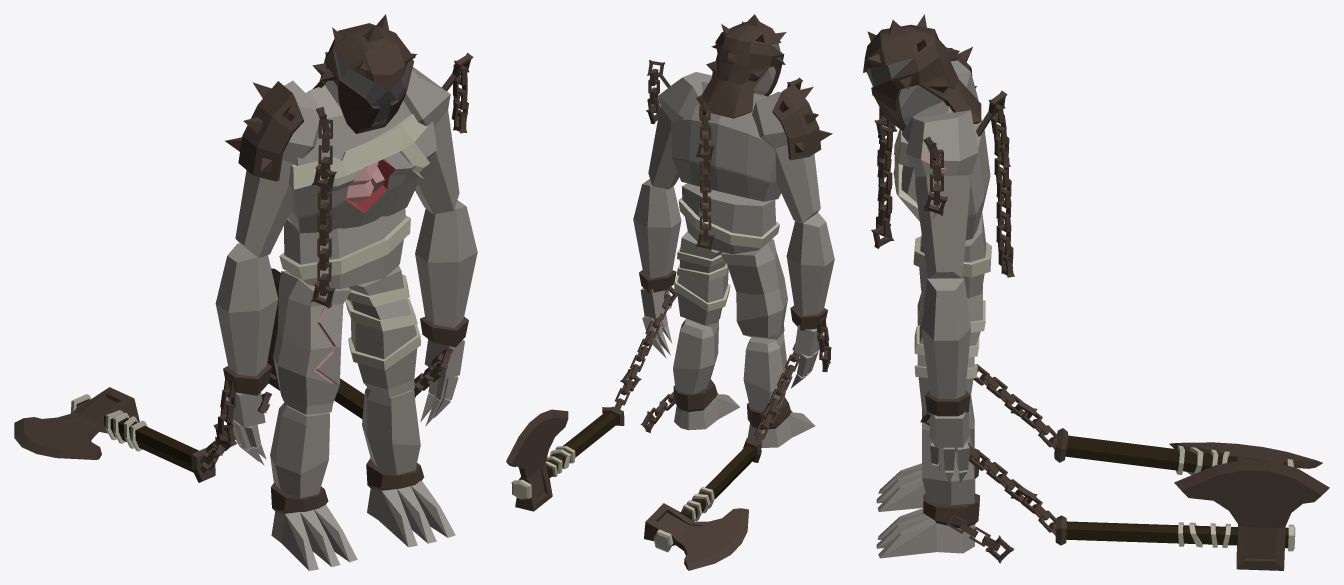
The model's file is Fanatic.fbx.
3 renders of one model, left to right at view 1: azimuth 30°, elevation 25°; view 2: azimuth 150°, elevation 25°; view 3: azimuth 270°, elevation 25°, orthographic. The views are drawn at different scales.
Parts seen in each view (by area): view 1: polySurface168, polySurface156, polySurface198, polySurface170, polySurface154, pCube1, polySurface195, polySurface172, polySurface167, polySurface200, polySurface199, polySurface157 (+9 smaller); view 2: polySurface168, pCube1, polySurface156, polySurface154, pCube2, polySurface198, polySurface167, polySurface170, polySurface172, polySurface200, polySurface195, polySurface166 (+8 smaller); view 3: pCube2, polySurface200, polySurface154, polySurface172, pCube1, polySurface199, polySurface168, polySurface151, polySurface166, polySurface167, polySurface195, polySurface130 (+5 smaller).
Part boxes in pixels (x1,y1,x2,y2): polySurface168: (288, 85, 437, 233); polySurface156: (225, 80, 319, 258); polySurface198: (213, 243, 278, 446); polySurface170: (273, 271, 351, 414); polySurface154: (312, 14, 416, 133); pCube1: (14, 387, 215, 482); polySurface195: (345, 265, 420, 397); polySurface172: (415, 200, 477, 347); polySurface167: (279, 208, 410, 288); polySurface200: (403, 52, 473, 214); polySurface199: (366, 458, 455, 547); polySurface157: (270, 402, 329, 498); polySurface168: (671, 82, 780, 201); pCube1: (644, 438, 761, 570); polySurface156: (752, 84, 832, 222); polySurface154: (701, 14, 786, 118); pCube2: (506, 407, 624, 511); polySurface198: (786, 212, 834, 372); polySurface167: (678, 183, 779, 253); polySurface170: (720, 239, 787, 339); polySurface172: (633, 179, 681, 293); polySurface200: (646, 60, 711, 189); polySurface195: (674, 231, 730, 327); polySurface166: (673, 318, 718, 394); pCube2: (1055, 460, 1329, 570); polySurface200: (906, 110, 978, 278); polySurface154: (863, 14, 981, 131); polySurface172: (921, 278, 970, 416); pCube1: (1054, 428, 1322, 474); polySurface199: (876, 493, 1013, 563); polySurface168: (893, 101, 990, 240); polySurface151: (991, 104, 1014, 277); polySurface166: (922, 422, 974, 505); polySurface167: (913, 212, 991, 298); polySurface195: (914, 288, 985, 417); polySurface130: (871, 107, 897, 248).
Bounding box in the file's own units: 4.65 × 8.24 × 6.84.
